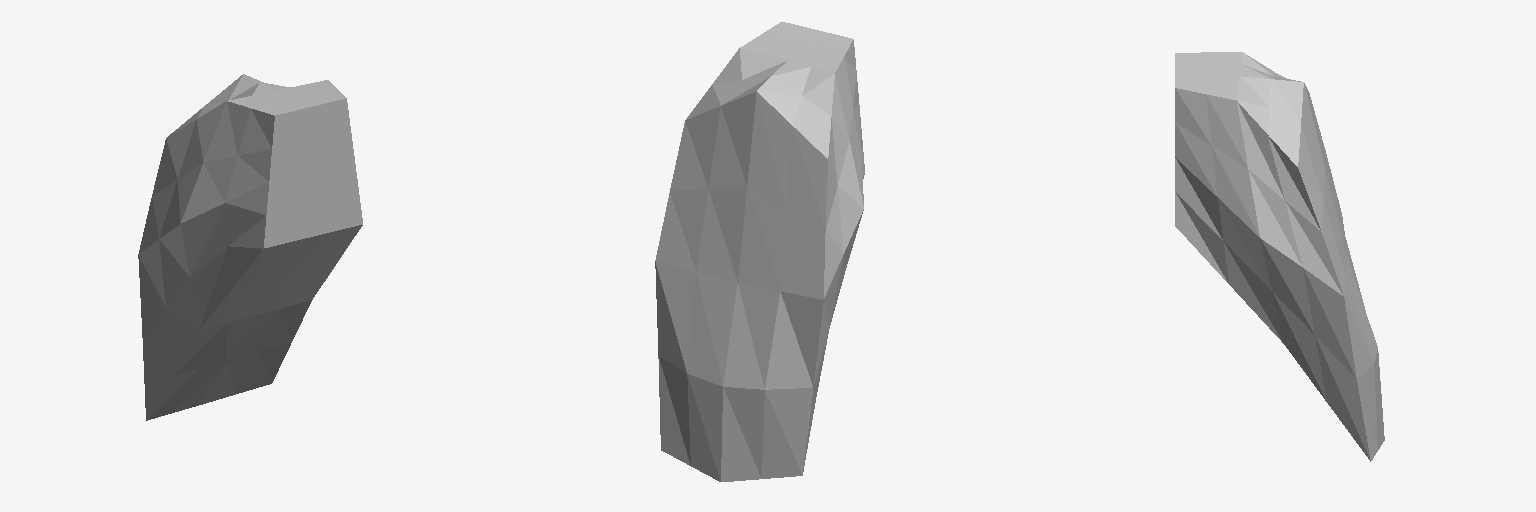
File: LowerDress.obj
3 views of the same model, side by side, from view 1: azimuth 30°, elevation 25°; view 2: azimuth 150°, elevation 25°; view 3: azimuth 270°, elevation 25° (orthographic).
Visible parts, largest first — view 1: LowerDress; view 2: LowerDress; view 3: LowerDress.
Part boxes in pixels (bbox=[...]): LowerDress: bbox=[138, 74, 362, 420]; LowerDress: bbox=[655, 22, 864, 481]; LowerDress: bbox=[1175, 52, 1384, 461].
Size of the model in its own units: 1.39 by 2.87 by 1.46.